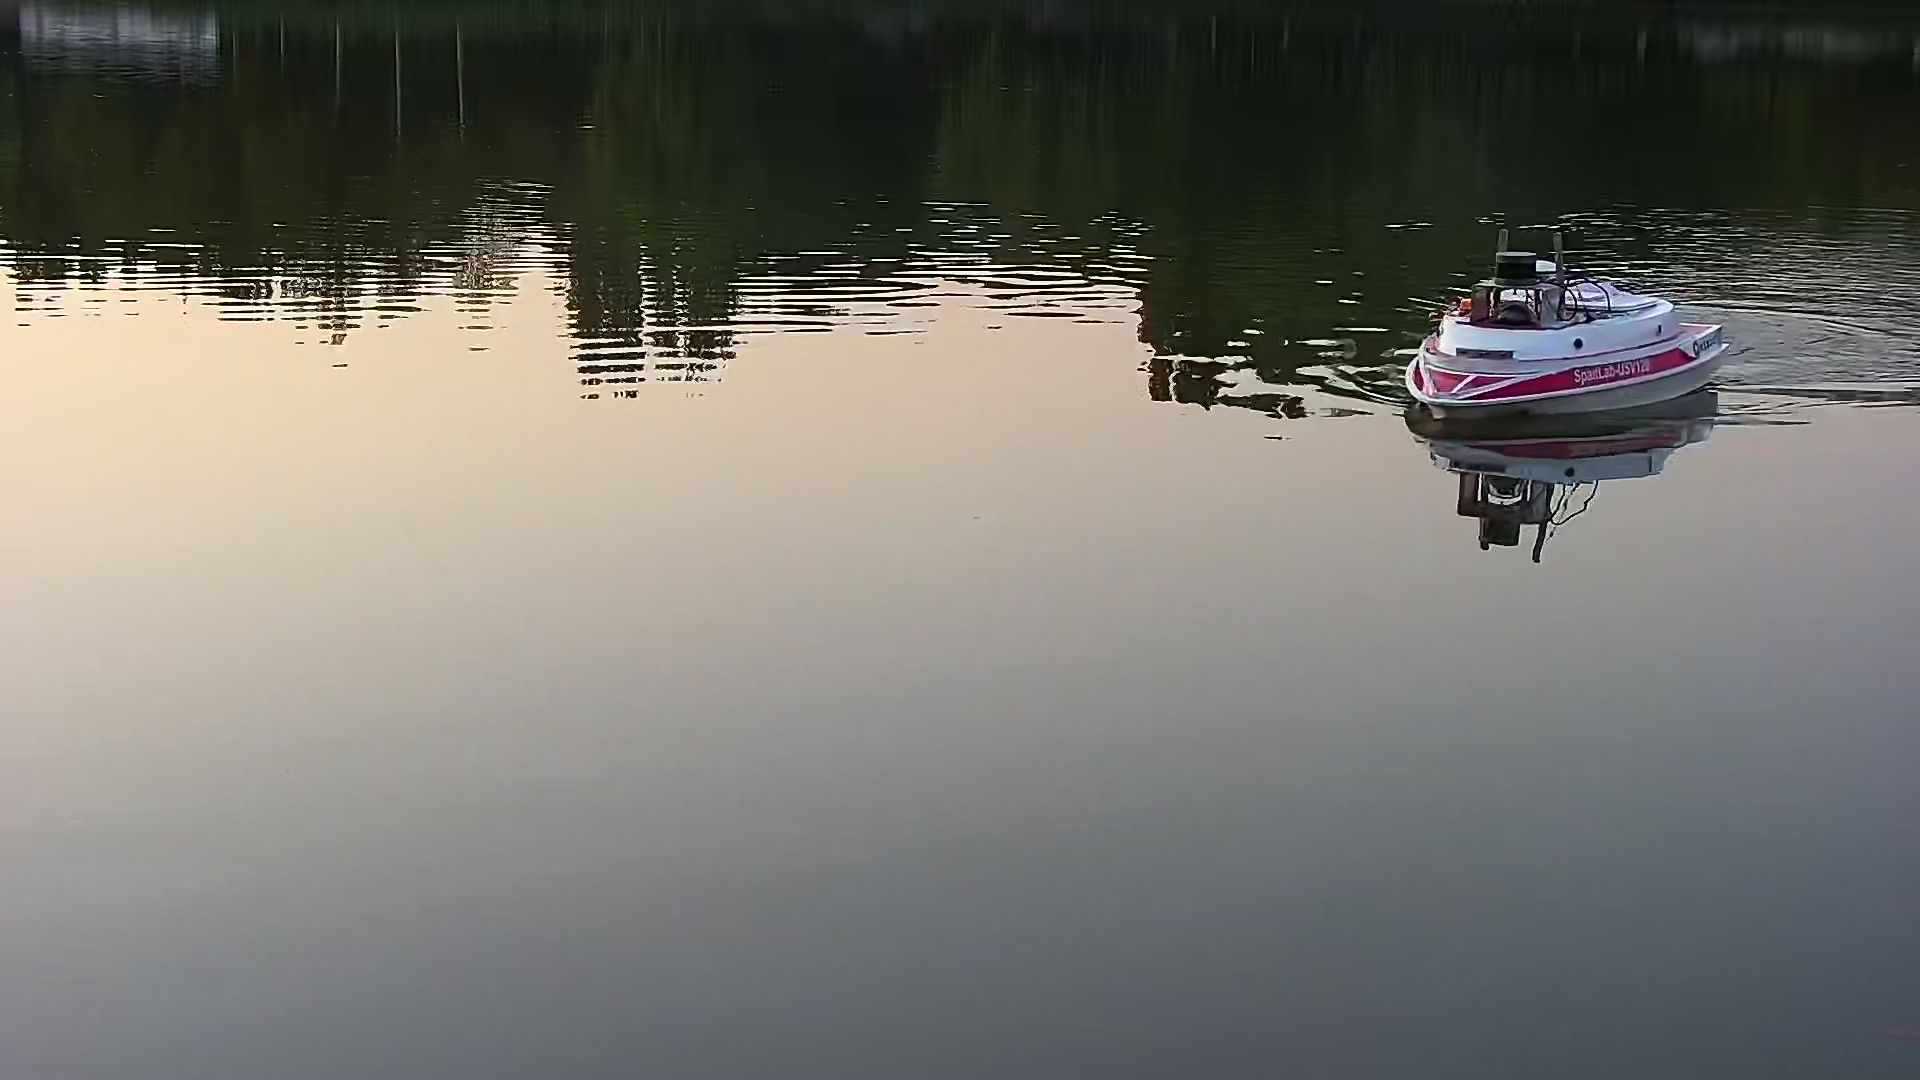boat: (1414, 228, 1720, 442)
